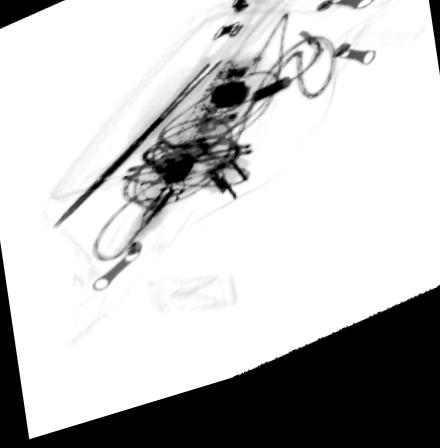Scissors: (50, 2, 305, 233)
